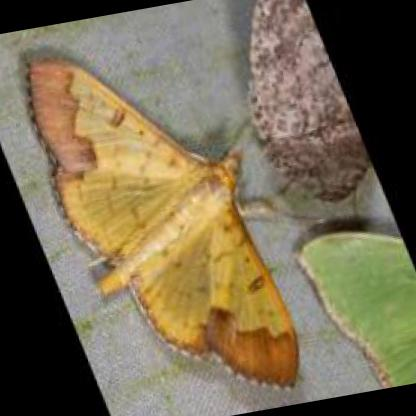Leaf Webber: (27, 59, 302, 392)
